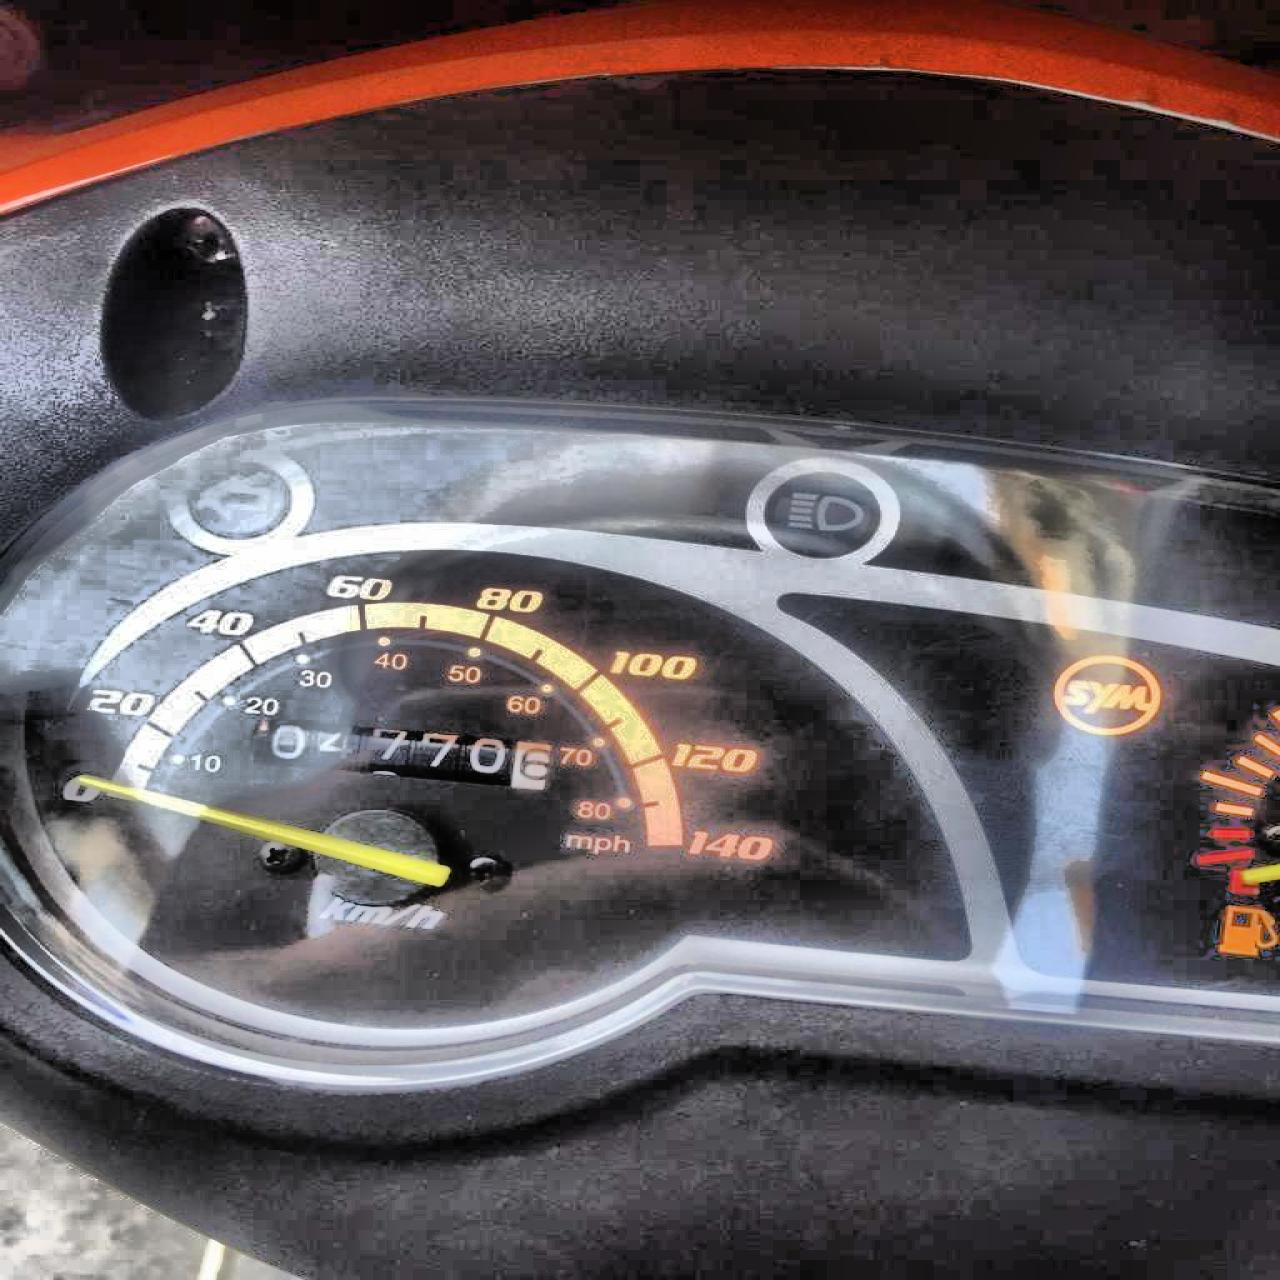0: (467, 733, 506, 774), (267, 721, 305, 764)
4: (315, 726, 356, 764)
6: (517, 743, 553, 783)
7: (368, 726, 409, 760), (420, 730, 455, 769)
odometer: (246, 716, 561, 794)
